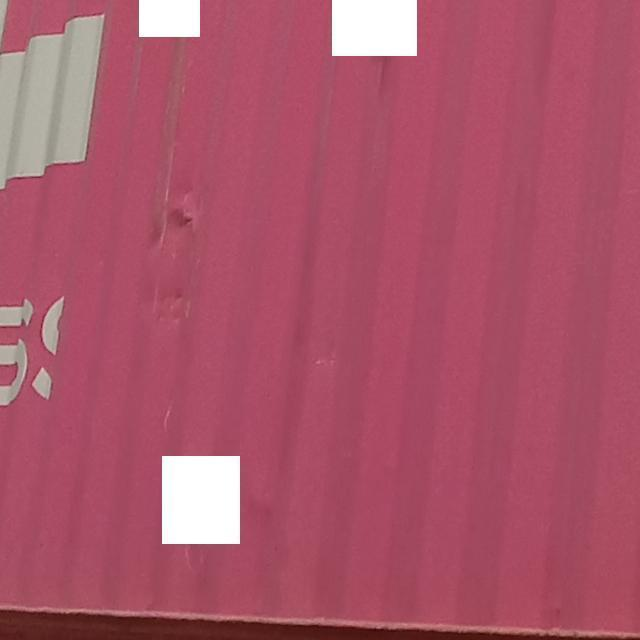dent: (126, 175, 216, 326)
